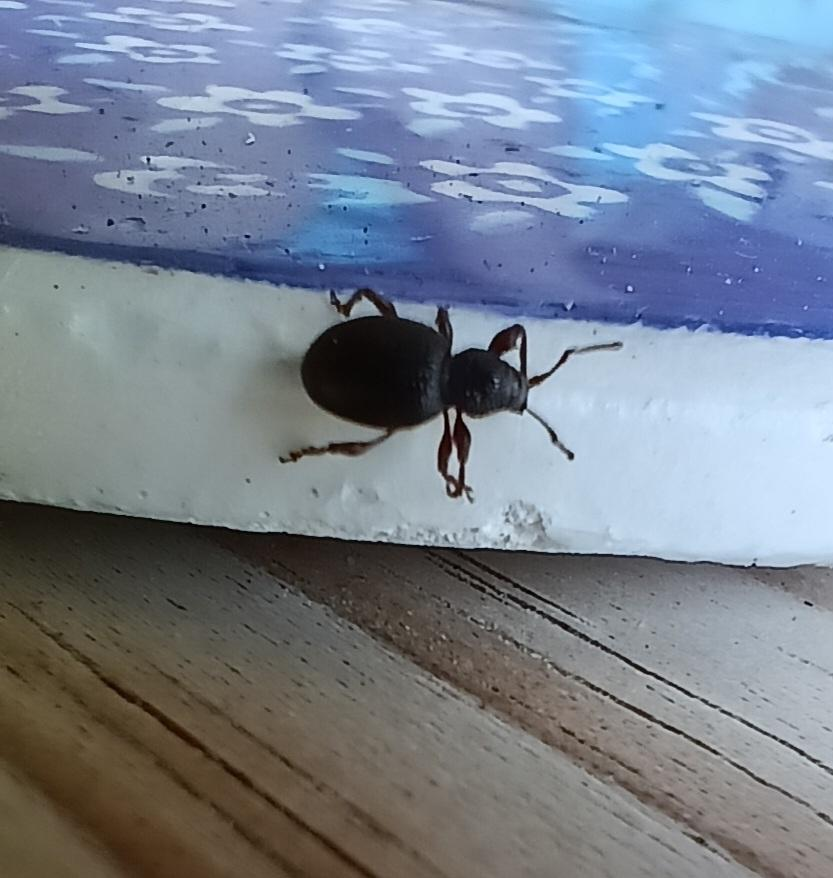weevils: (259, 256, 631, 538)
